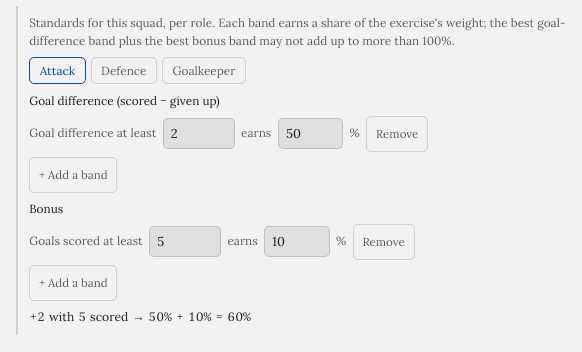
Test case: GoalBandsEditor › always leaves one row of boxes in an empty list
What coordinates should you click on to do the following:
click the tab "Goalkeeper"
I would click on:
 (204, 71)
Its box is [162,57,246,84].
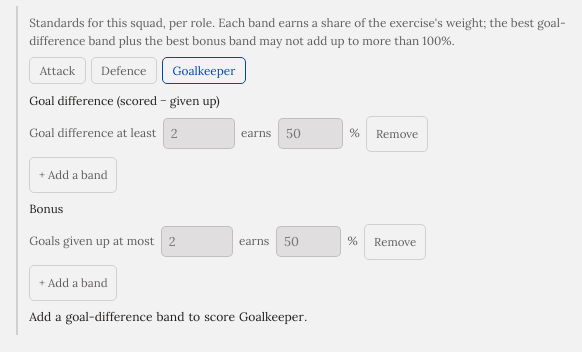
Now the text "Add a goal-difference band to score Goalkeeper." is shown, box [29,309,308,324]
